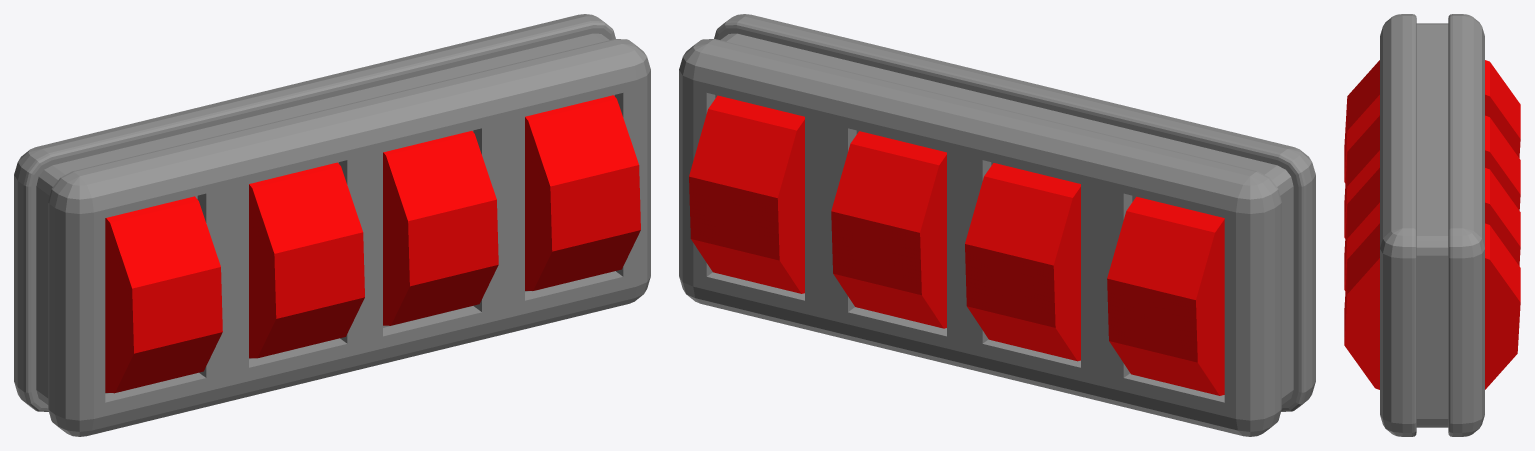
The model's file is PadLock.fbx.
The picture shows the model from 3 angles, left to right: view 1: azimuth 30°, elevation 25°; view 2: azimuth 150°, elevation 25°; view 3: azimuth 270°, elevation 25°; orthographic projection. The views are drawn at different scales.
Visible parts, largest first — view 1: DoorPadlock, Lock001, Lock002, Lock004, Lock003; view 2: DoorPadlock, Lock001, Lock002, Lock004, Lock003; view 3: DoorPadlock, Lock004, Lock001, Lock003, Lock002.
Part boxes in pixels (x1,y1,x2,y2): DoorPadlock: (14,14,650,436); Lock001: (105,196,222,393); Lock002: (249,162,364,358); Lock004: (525,95,640,290); Lock003: (383,131,498,325); DoorPadlock: (679,14,1315,436); Lock001: (1107,196,1224,395); Lock002: (965,163,1080,361); Lock004: (689,95,804,293); Lock003: (831,131,946,328); DoorPadlock: (1380,14,1484,436); Lock004: (1344,223,1520,389); Lock001: (1344,60,1520,182); Lock003: (1344,168,1520,290); Lock002: (1344,115,1520,238).
Bounding box in the file's own units: 4.72 × 1.97 × 1.52.
